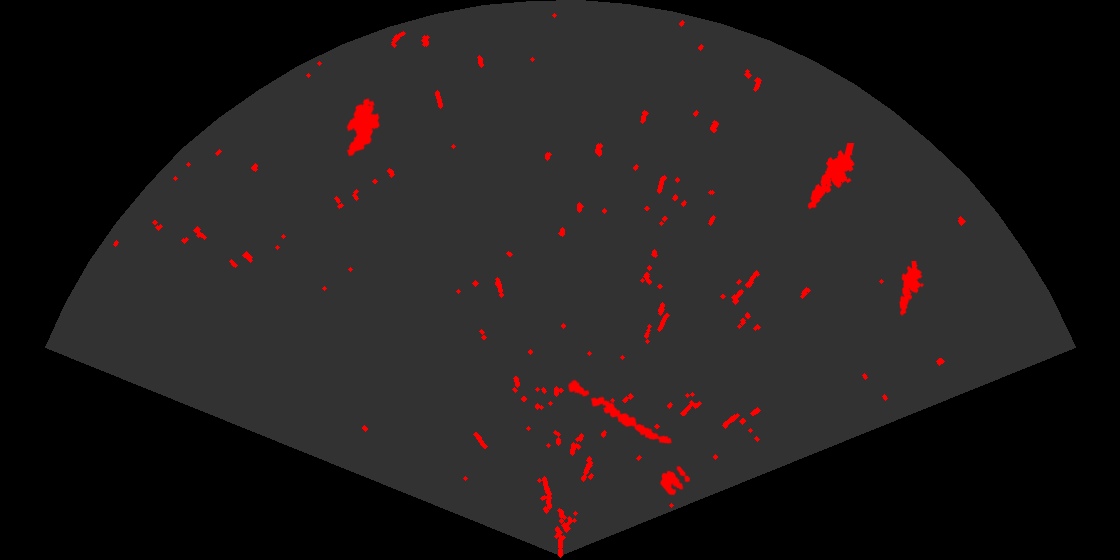AUV: (345, 96, 382, 158)
ball: (658, 464, 692, 497)
chain: (566, 378, 674, 446)
frogman: (806, 143, 856, 211), (897, 261, 926, 316)
